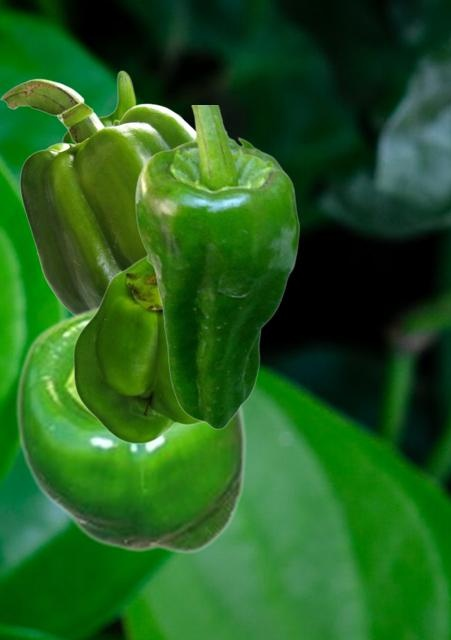bell_pepper: (14, 302, 246, 553), (134, 105, 299, 429), (0, 78, 194, 313), (72, 255, 201, 443), (61, 70, 182, 142)
